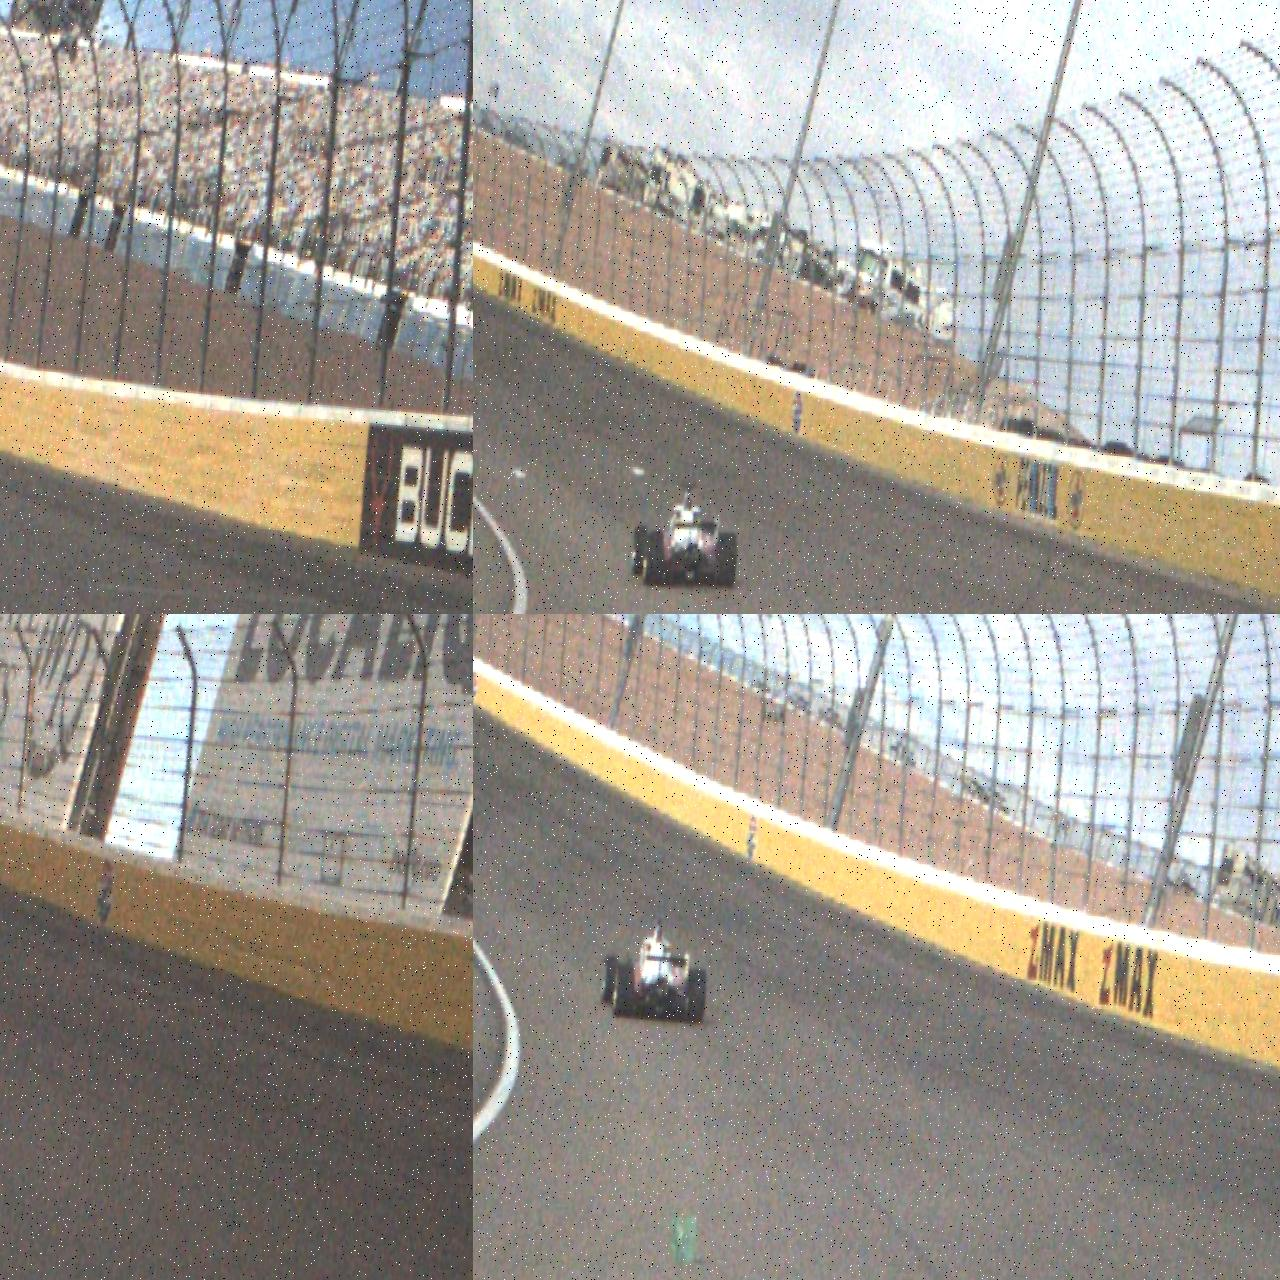AV: (598, 909, 714, 1028), (629, 478, 743, 594)
Wheel: (612, 962, 637, 1021), (684, 968, 709, 1026), (641, 530, 664, 588), (716, 532, 739, 590), (630, 524, 649, 576), (600, 956, 618, 1004)
